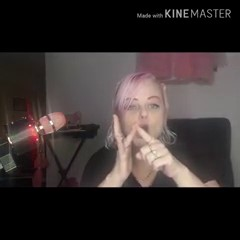O: (109, 111, 179, 187)
